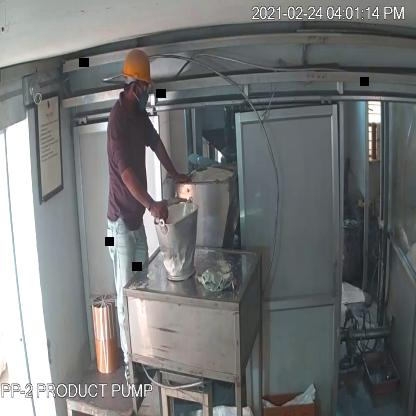helmet: (121, 48, 156, 87)
